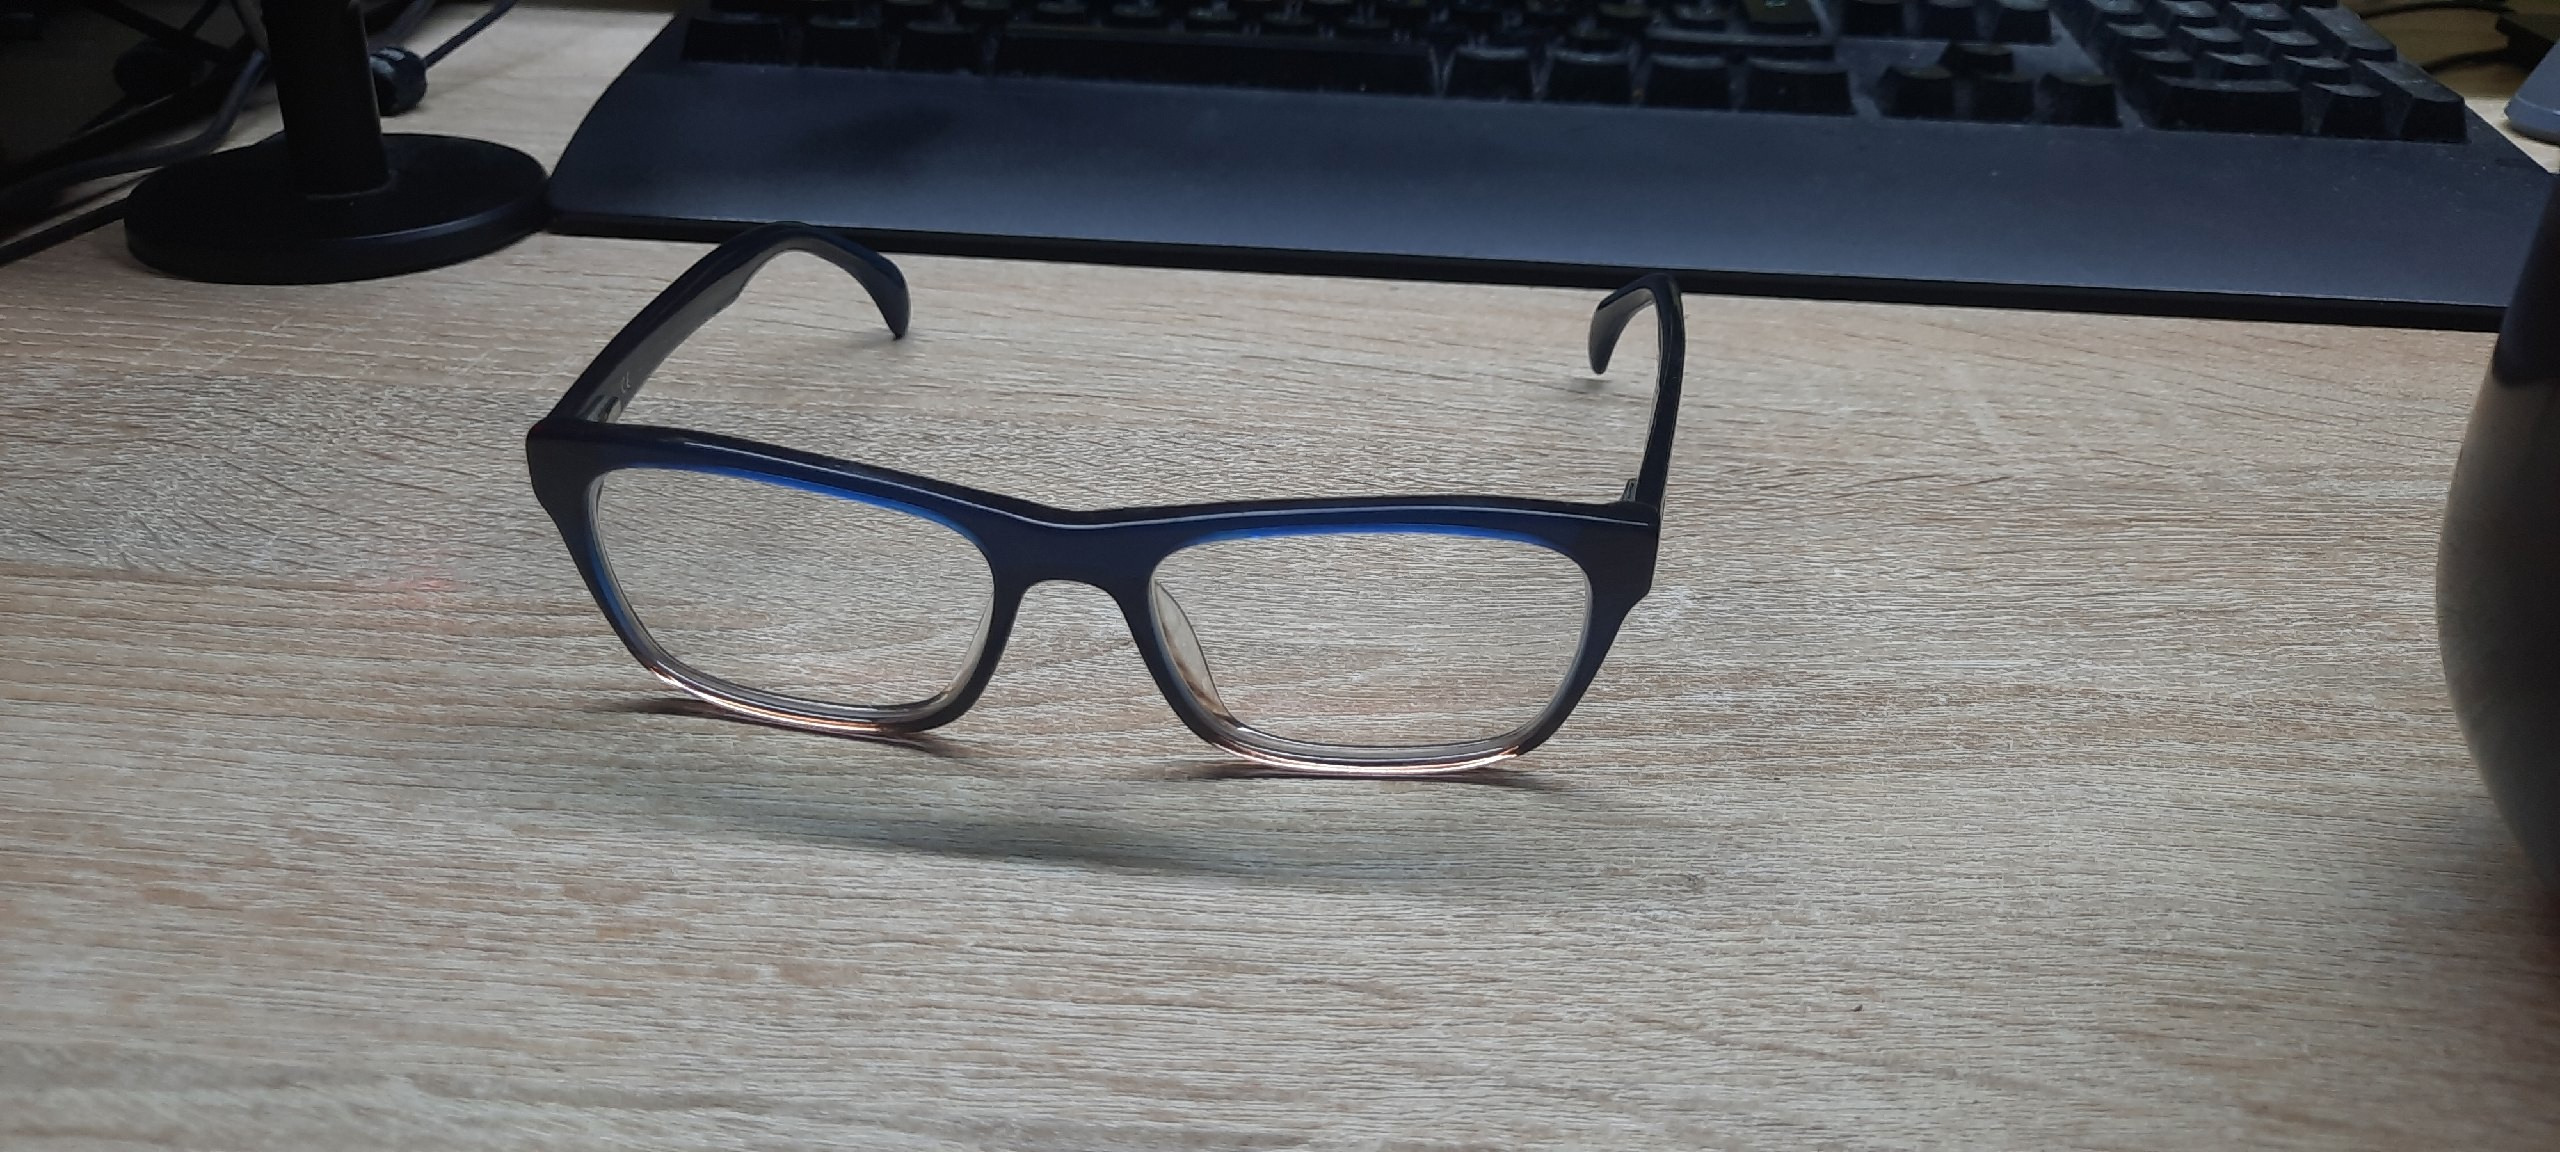glasses: (527, 224, 1683, 773)
